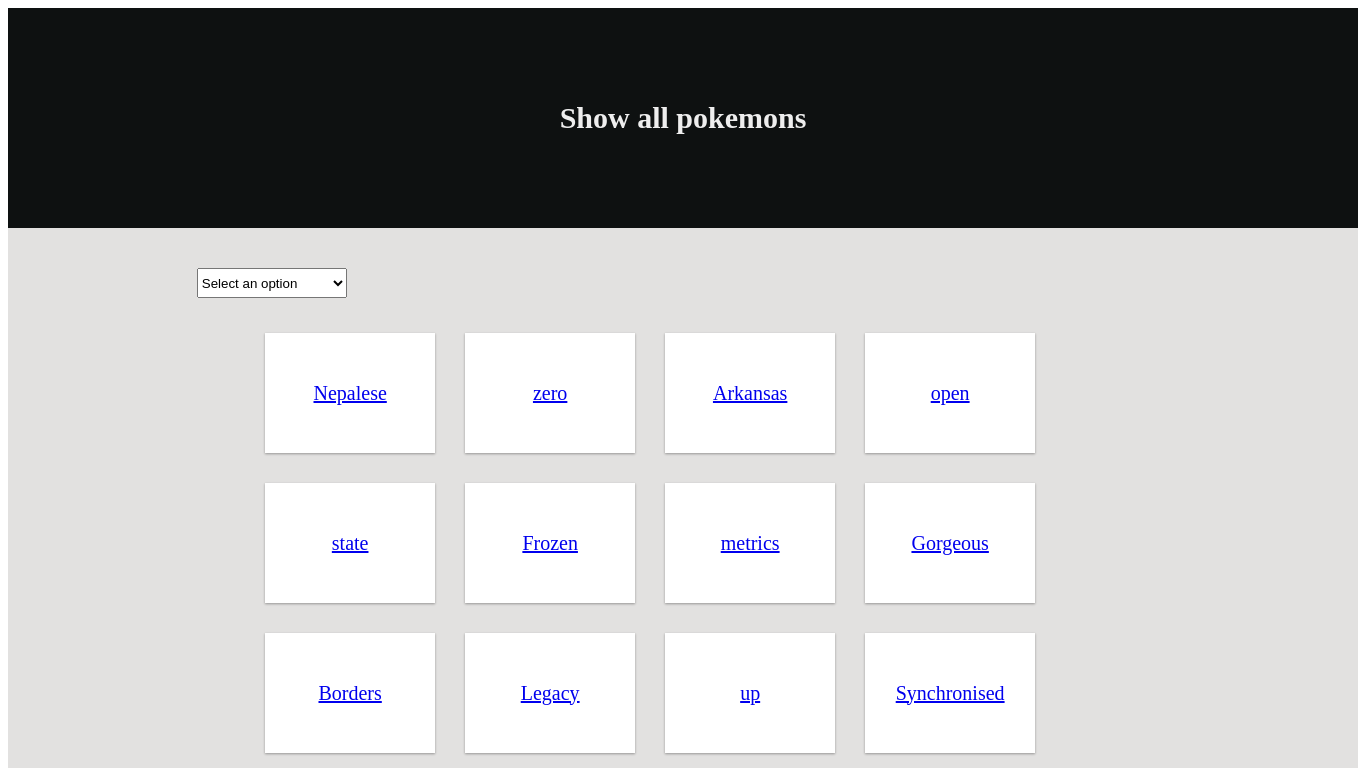
it: HomePage › should be able to select type and display pokemons by type
Select "fake-url/3/" in the dropdown at coordinates (272, 283), box [197,268,347,298]
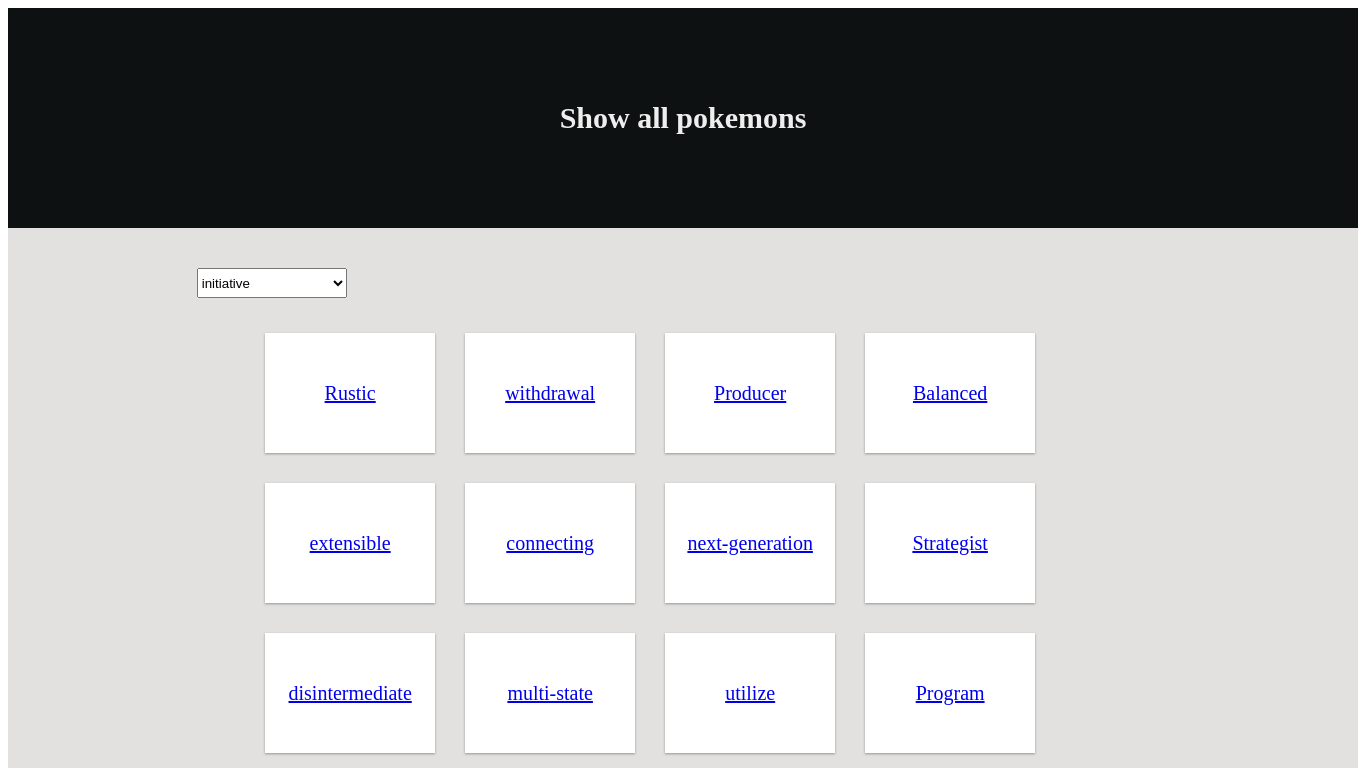
Expected: the number of elements with test id "single-pokemon" is 19
